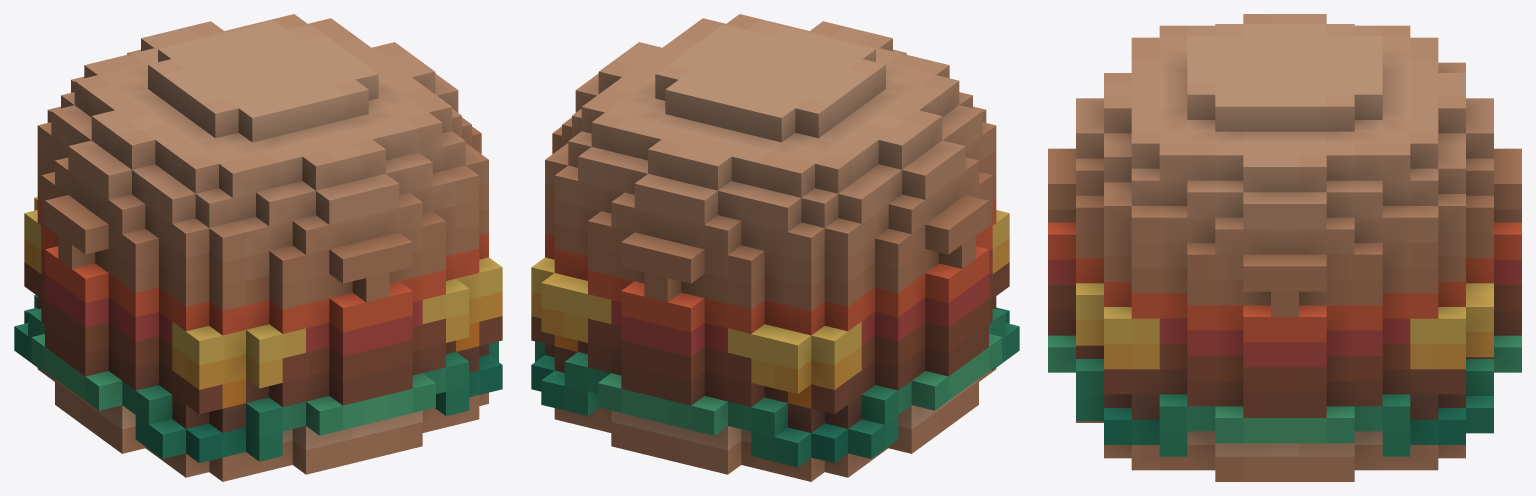
Rendered from burger.glb.
3 views of the same model, side by side, from view 1: azimuth 30°, elevation 25°; view 2: azimuth 150°, elevation 25°; view 3: azimuth 270°, elevation 25° (orthographic). The views are drawn at different scales.
Parts seen in each view (by area): view 1: voxels; view 2: voxels; view 3: voxels.
Part boxes in pixels (x1=…): voxels: x1=14, y1=14, x2=502, y2=481; voxels: x1=531, y1=14, x2=1019, y2=481; voxels: x1=1048, y1=14, x2=1521, y2=481.
Size of the model in its own units: 0.4108 by 0.3142 by 0.4108.
